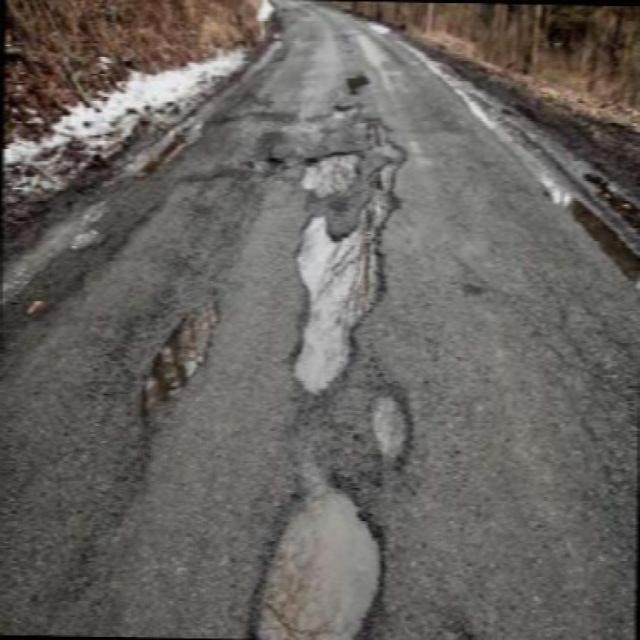Pothole: (237, 459, 400, 640), (286, 198, 398, 411), (117, 286, 259, 422), (362, 373, 420, 465), (300, 131, 370, 204), (361, 111, 416, 192), (232, 146, 300, 187), (335, 68, 380, 107)
